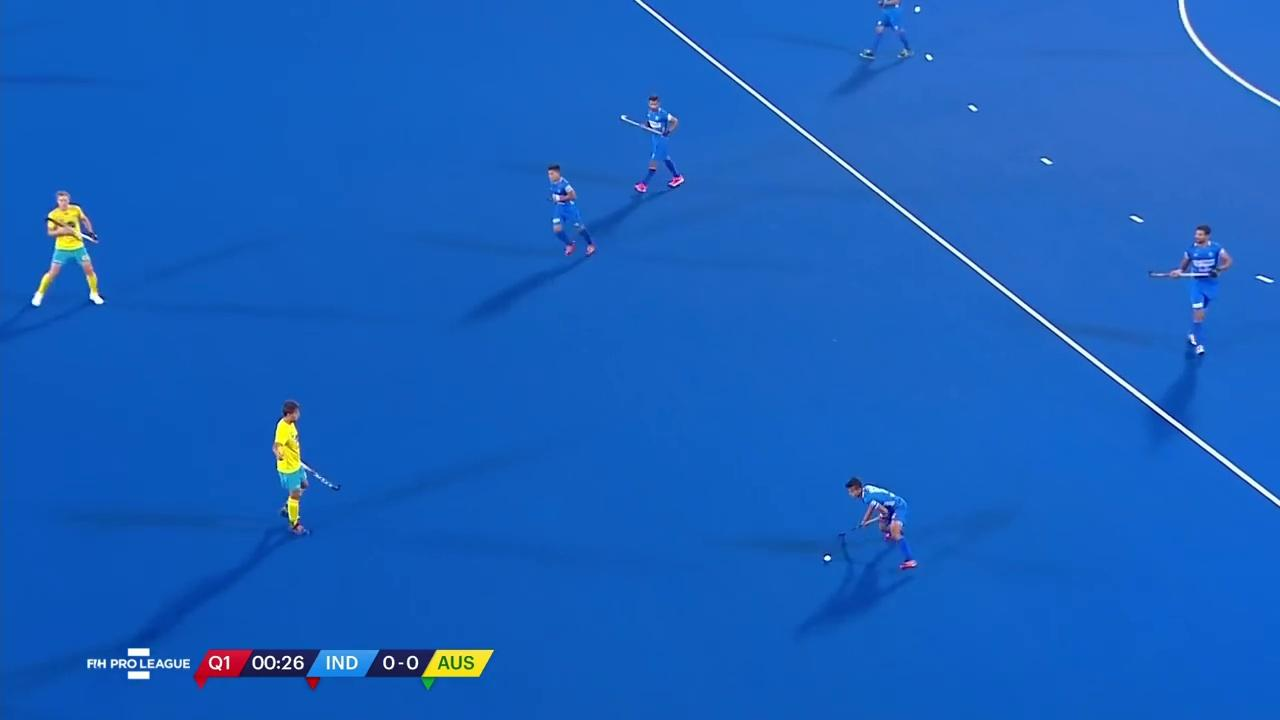ball: (818, 551, 837, 565)
